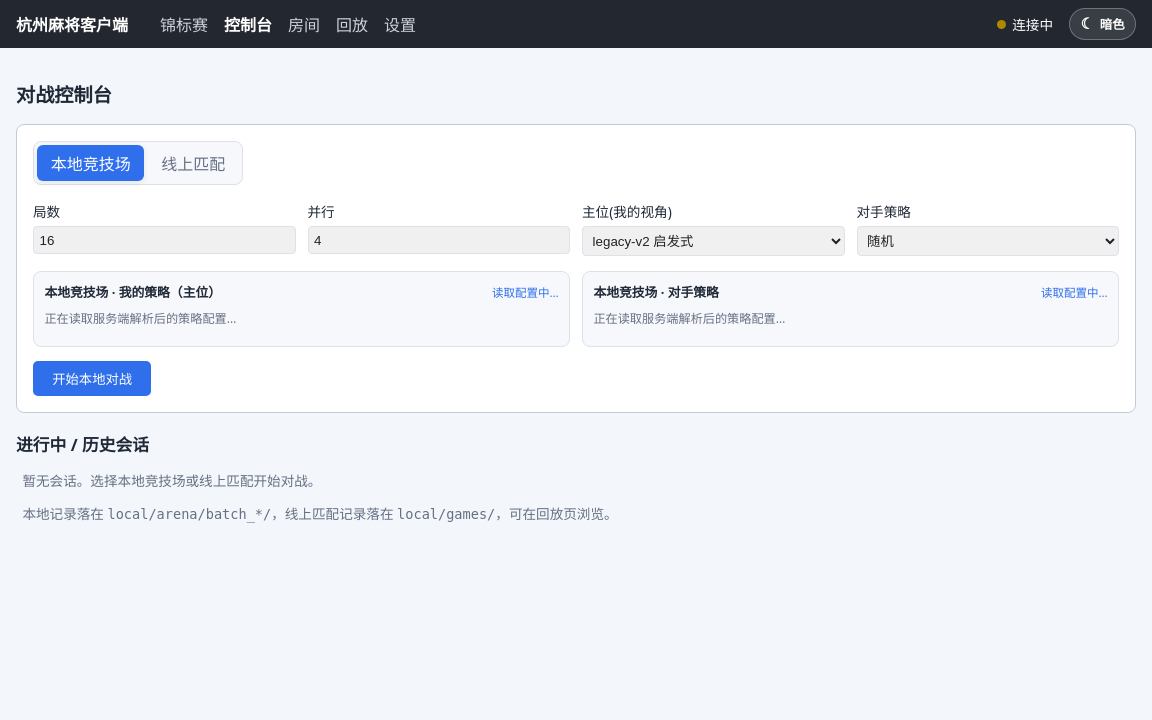
Test: App 路由骨架 › 明暗模式开关会更新根节点并持久化选择
Click the button with aria-label "切换到暗色模式" at {"x": 1102, "y": 24}, box [1069,8,1136,40]
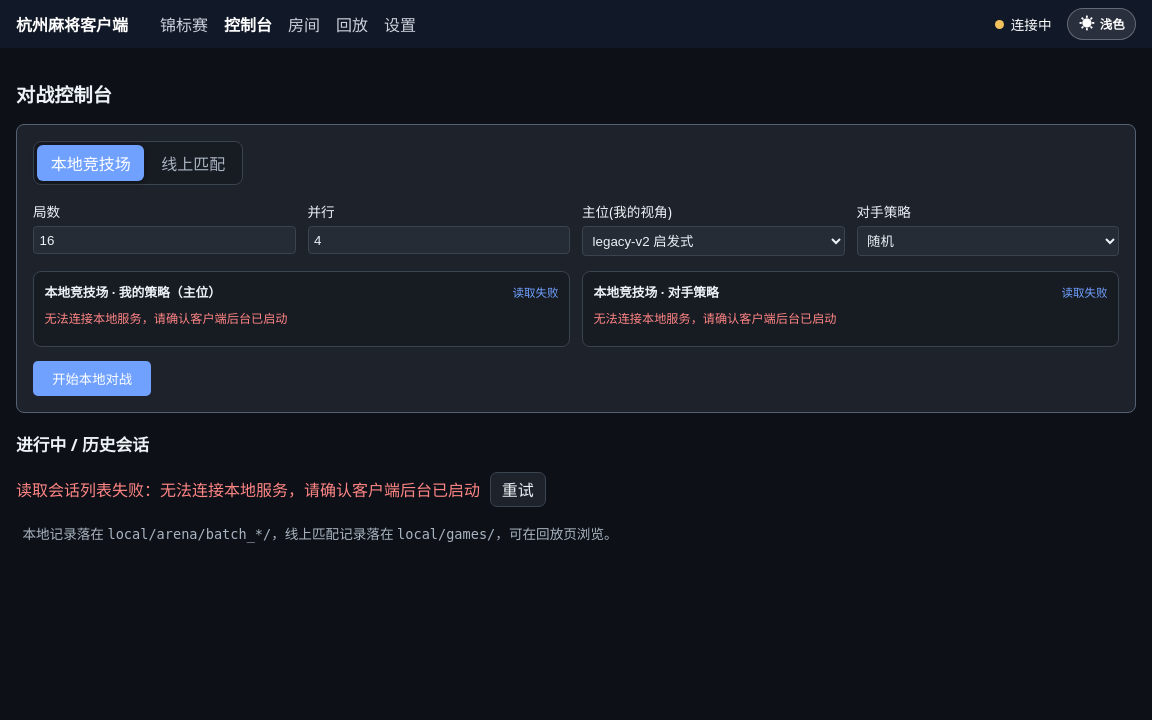
Result: the button with aria-label "切换到浅色模式" is shown at [1068,8,1136,40]
